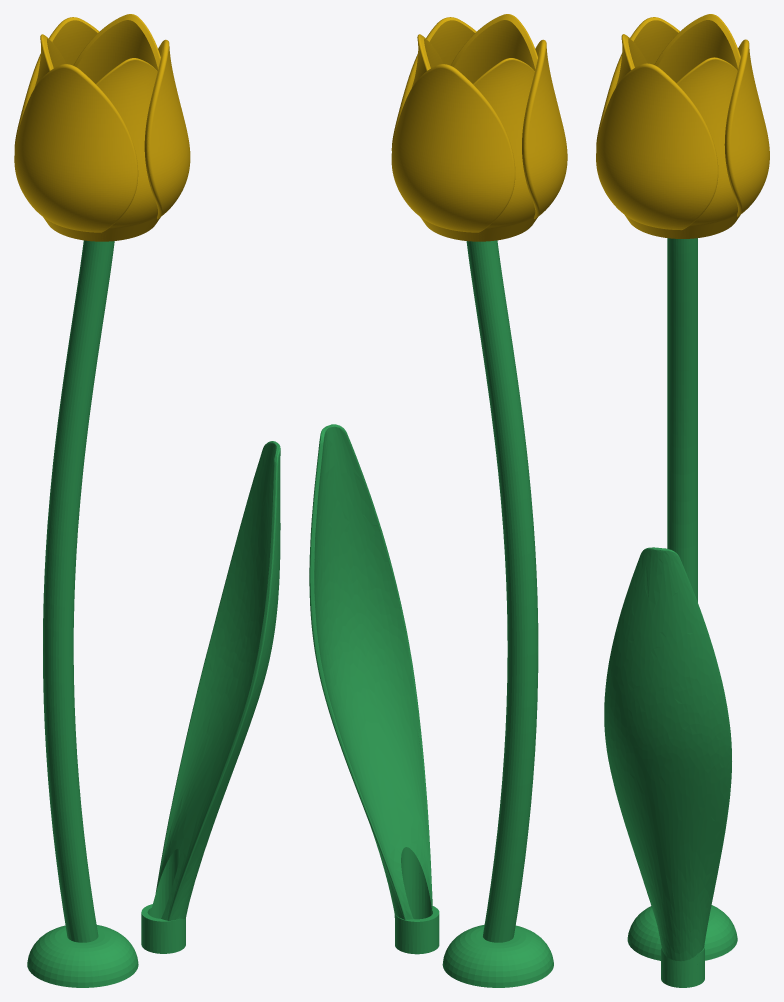
The model's file is tulip.glb.
3 views of the same model, side by side, from view 1: azimuth 30°, elevation 25°; view 2: azimuth 150°, elevation 25°; view 3: azimuth 270°, elevation 25° (orthographic).
Parts seen in each view (by area): view 1: 00-flower; view 2: 00-flower; view 3: 00-flower.
Part boxes in pixels (bbox=[...]): 00-flower: bbox=[14, 14, 280, 987]; 00-flower: bbox=[309, 14, 567, 987]; 00-flower: bbox=[596, 14, 769, 987].
Bounding box in the file's own units: 62.71 × 229 × 39.47.
